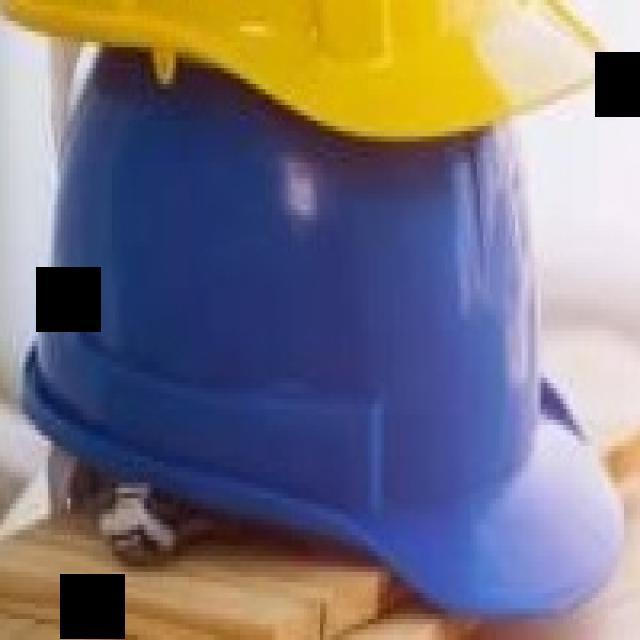blue helmet: (16, 53, 640, 605)
